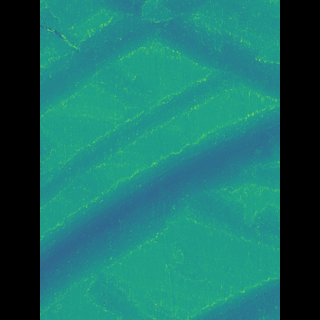Loch: (69, 100, 250, 314), (69, 60, 219, 211), (114, 0, 250, 100)
